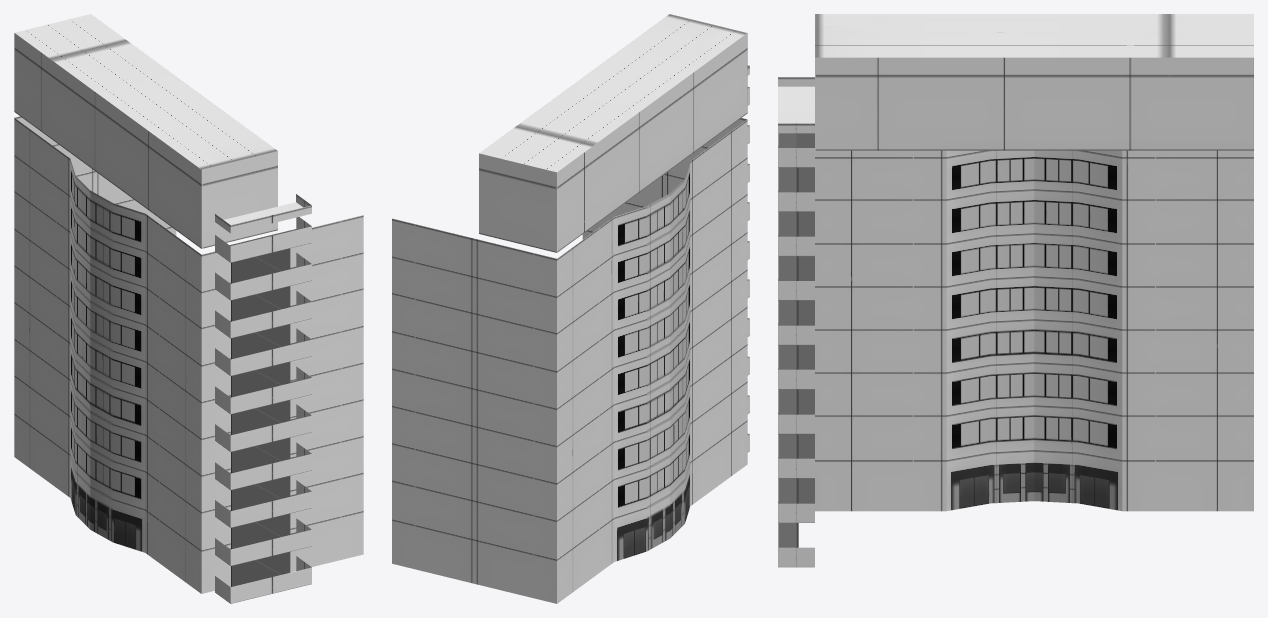
File: buil_01.fbx
3 renders of one model, left to right at view 1: azimuth 30°, elevation 25°; view 2: azimuth 150°, elevation 25°; view 3: azimuth 270°, elevation 25°, orthographic. The views are drawn at different scales.
Parts seen in each view (by area): view 1: buil_01_ncl2_, polySurface16; view 2: buil_01_ncl2_; view 3: buil_01_ncl2_, polySurface16.
Part boxes in pixels (left/top/right/bottom): buil_01_ncl2_: left=14, top=14, right=363, bottom=603; polySurface16: left=229, top=229, right=296, bottom=586; buil_01_ncl2_: left=392, top=14, right=749, bottom=603; buil_01_ncl2_: left=778, top=14, right=1253, bottom=567; polySurface16: left=778, top=133, right=814, bottom=547.
Bounding box in the file's own units: 13.3 × 30.12 × 26.02.
